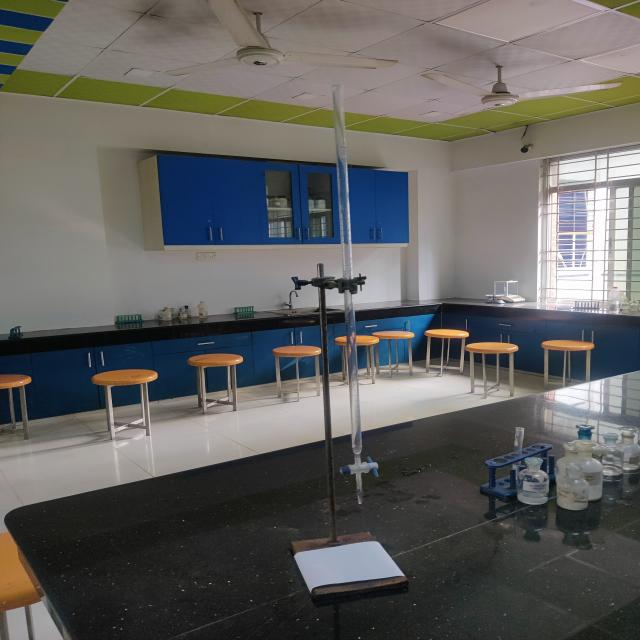Burette_Stands: (256, 79, 411, 598)
